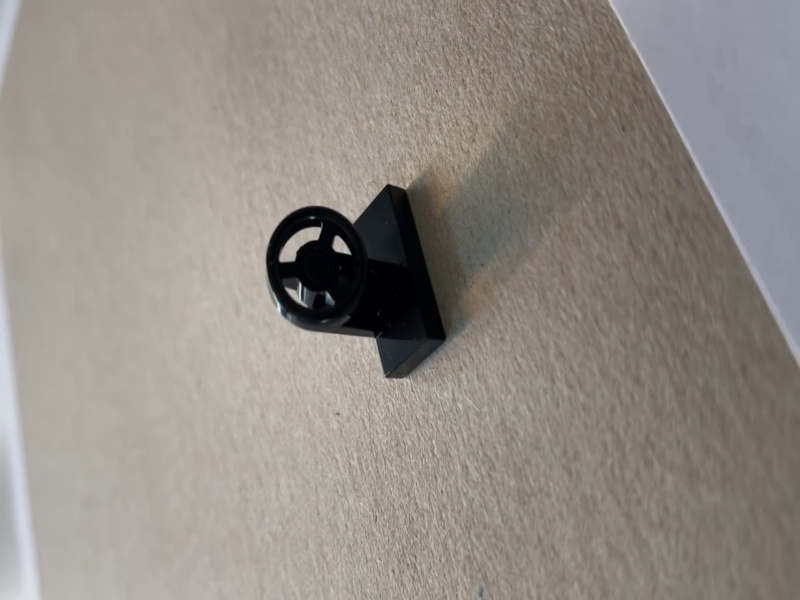steering wheel: (266, 181, 449, 379)
